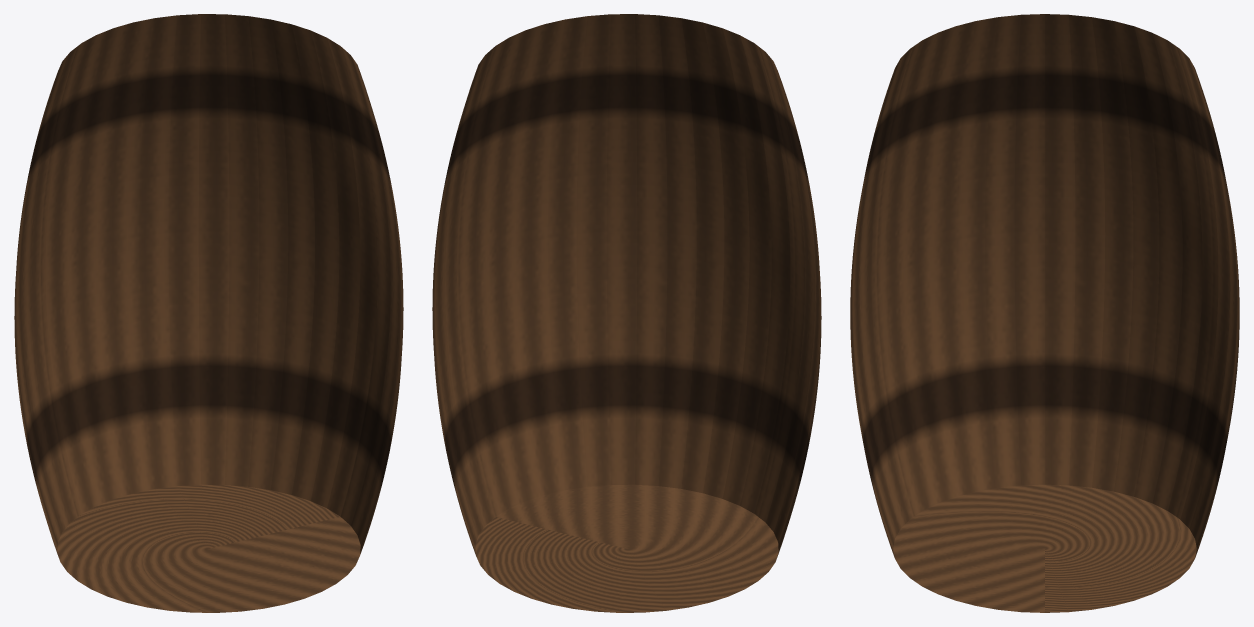
The model's file is Prop_Barrel.gltf.
3 renders of one model, left to right at view 1: azimuth 30°, elevation 25°; view 2: azimuth 150°, elevation 25°; view 3: azimuth 270°, elevation 25°, orthographic.
Visible parts, largest first — view 1: Prop_Barrel; view 2: Prop_Barrel; view 3: Prop_Barrel.
Boxes of the visible parts, x1,y1,x2,y2 form: Prop_Barrel: (14, 14, 403, 612); Prop_Barrel: (432, 14, 821, 612); Prop_Barrel: (850, 14, 1239, 612).
Bounding box in the file's own units: 0.6 × 0.8 × 0.6.
Materials: 1 (1 with a texture image).
